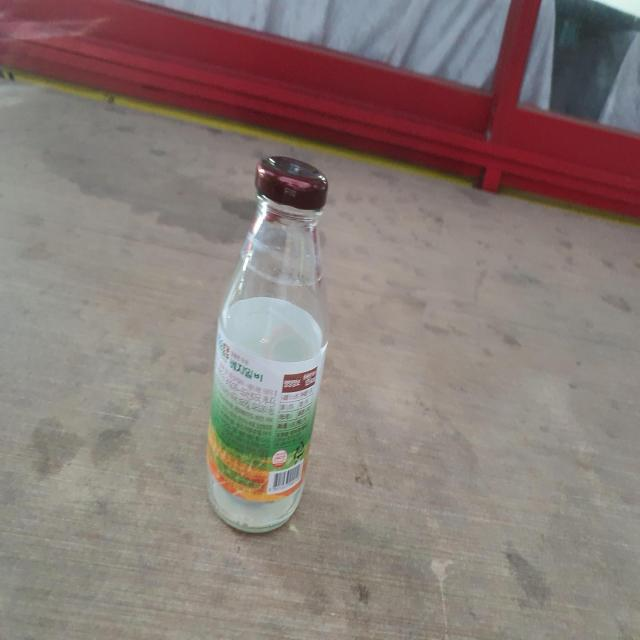glass: (206, 156, 329, 532)
